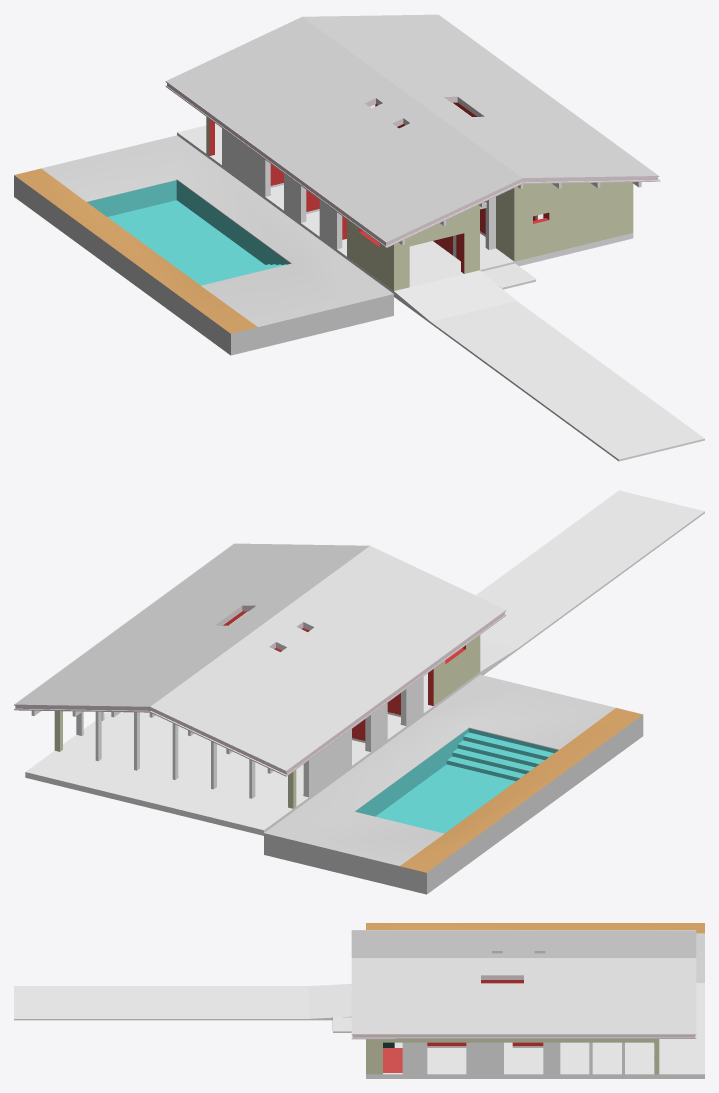
File: house.glb
3 views of the same model, one above another, from view 1: azimuth 30°, elevation 25°; view 2: azimuth 150°, elevation 25°; view 3: azimuth 270°, elevation 25° (orthographic). The views are drawn at different scales.
Visible parts, largest first — view 1: tejado, piso zona alberca, rampa cochera, paredes madera, piso, paredes concreto, paredes interiores, escalon entrada; view 2: tejado, piso zona alberca, piso, rampa cochera, paredes concreto, paredes madera; view 3: tejado, rampa cochera, piso, paredes concreto, piso zona alberca, paredes madera, paredes interiores, escalon entrada.
Part boxes in pixels (x1,y1,x2,y2): tejado: (165, 14, 660, 248); piso zona alberca: (14, 135, 393, 355); rampa cochera: (394, 270, 704, 461); paredes madera: (206, 117, 633, 290); piso: (177, 104, 633, 293); paredes concreto: (222, 128, 495, 257); paredes interiores: (270, 102, 545, 255); escalon entrada: (482, 263, 536, 289); tejado: (14, 543, 506, 776); piso zona alberca: (264, 674, 643, 894); piso: (25, 672, 480, 835); rampa cochera: (476, 490, 704, 675); paredes concreto: (76, 676, 423, 798); paredes madera: (54, 635, 480, 808); tejado: (351, 930, 696, 1039); rampa cochera: (14, 984, 351, 1020); piso: (366, 983, 704, 1078); paredes concreto: (402, 1042, 624, 1074); piso zona alberca: (366, 923, 704, 982); paredes madera: (366, 1039, 659, 1074); paredes interiores: (383, 980, 543, 1047); escalon entrada: (332, 1017, 351, 1032).
Bounding box in the file's own units: 23.2 × 6.07 × 42.22.
